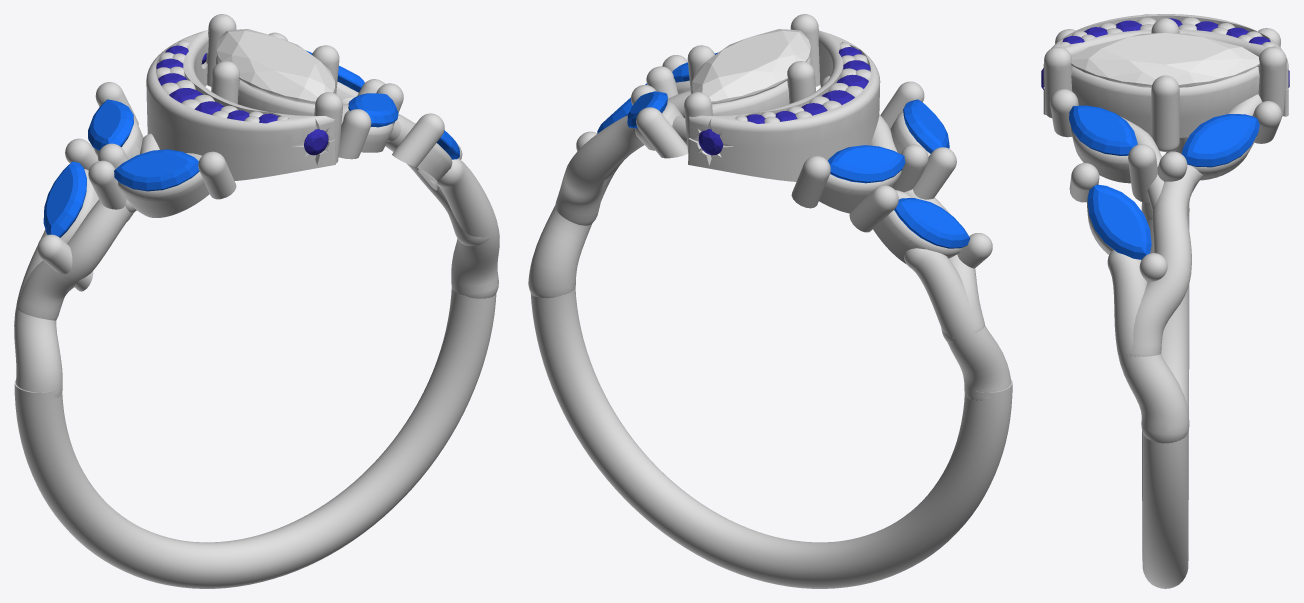
File: AlexV3PTcrecentmooneng.glb
3 views of the same model, side by side, from view 1: azimuth 30°, elevation 25°; view 2: azimuth 150°, elevation 25°; view 3: azimuth 270°, elevation 25° (orthographic).
Parts seen in each view (by area): view 1: V3 Alex PT for 3d model, Alex dia for 3d model, Alex sapph for 3d model.004, Alex sapph for 3d model, Alex alexandrite for 3d model, Alex sapph for 3d model.002, Alex sapph for 3d model.005; view 2: V3 Alex PT for 3d model, Alex dia for 3d model, Alex sapph for 3d model, Alex sapph for 3d model.002, Alex alexandrite for 3d model, Alex sapph for 3d model.004, Alex sapph for 3d model.001; view 3: V3 Alex PT for 3d model, Alex dia for 3d model, Alex sapph for 3d model.003, Alex sapph for 3d model.001, Alex sapph for 3d model.005, Alex alexandrite for 3d model.
Boxes of the visible parts, x1,y1,x2,y2 form: V3 Alex PT for 3d model: [14, 14, 499, 588]; Alex dia for 3d model: [216, 29, 334, 104]; Alex sapph for 3d model.004: [114, 149, 199, 191]; Alex sapph for 3d model: [43, 161, 86, 237]; Alex alexandrite for 3d model: [156, 45, 328, 155]; Alex sapph for 3d model.002: [88, 99, 133, 150]; Alex sapph for 3d model.005: [348, 93, 398, 127]; V3 Alex PT for 3d model: [528, 14, 1012, 588]; Alex dia for 3d model: [692, 29, 810, 104]; Alex sapph for 3d model: [894, 198, 970, 248]; Alex sapph for 3d model.002: [828, 145, 905, 183]; Alex alexandrite for 3d model: [698, 47, 870, 155]; Alex sapph for 3d model.004: [903, 99, 949, 153]; Alex sapph for 3d model.001: [627, 91, 667, 128]; V3 Alex PT for 3d model: [1043, 14, 1288, 588]; Alex dia for 3d model: [1071, 32, 1259, 87]; Alex sapph for 3d model.003: [1087, 184, 1151, 259]; Alex sapph for 3d model.001: [1181, 114, 1259, 167]; Alex sapph for 3d model.005: [1069, 105, 1137, 155]; Alex alexandrite for 3d model: [1041, 18, 1289, 89].
Size of the model in its own units: 19.68 by 20.68 by 8.81.
